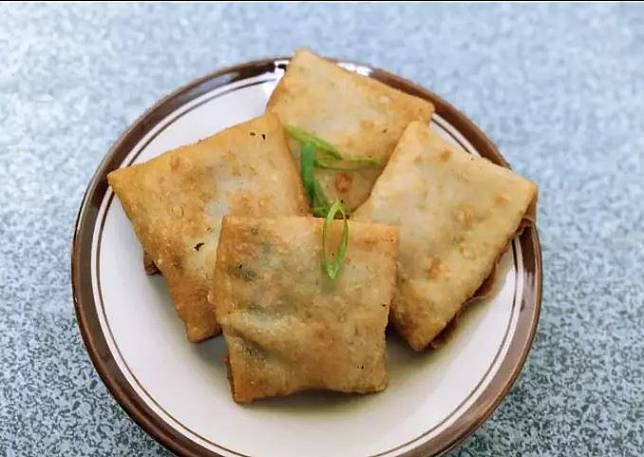martabak: (107, 49, 540, 407)
